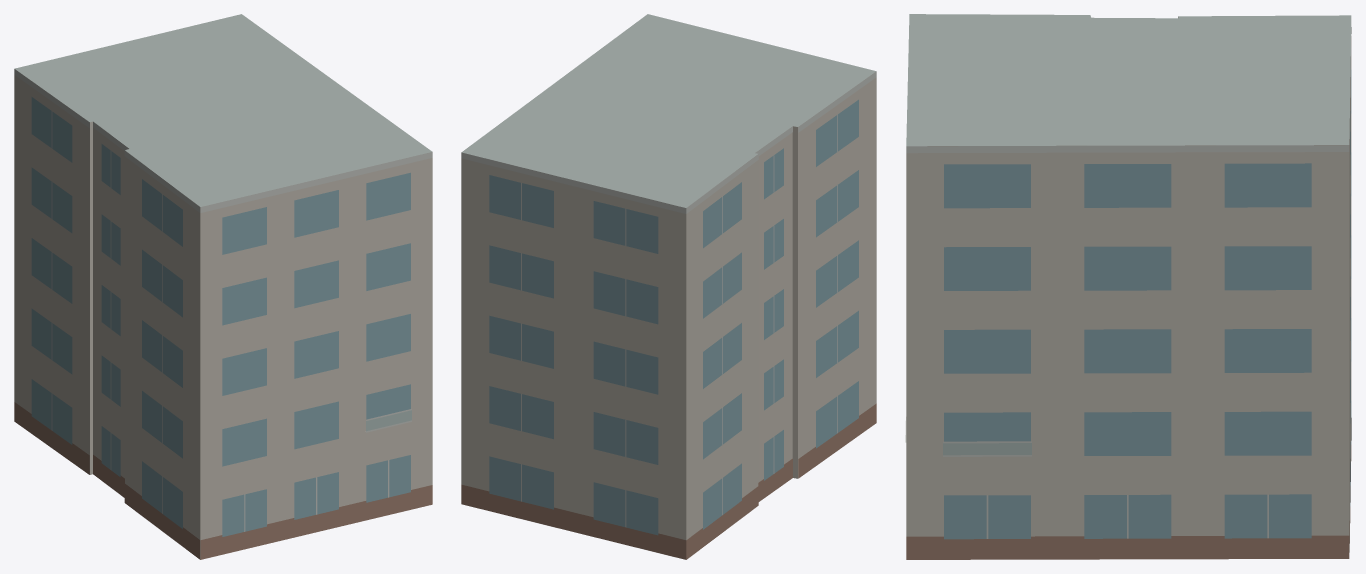
File: survey-upis-32774572.glb
The picture shows the model from 3 angles, left to right: view 1: azimuth 30°, elevation 25°; view 2: azimuth 150°, elevation 25°; view 3: azimuth 270°, elevation 25°; orthographic projection. The views are drawn at different scales.
Parts seen in each view (by area): view 1: survey-upis-32774572.tmp; view 2: survey-upis-32774572.tmp; view 3: survey-upis-32774572.tmp.
Boxes of the visible parts, bbox=[...] form: survey-upis-32774572.tmp: bbox=[14, 14, 432, 559]; survey-upis-32774572.tmp: bbox=[461, 14, 876, 559]; survey-upis-32774572.tmp: bbox=[905, 14, 1351, 559].
Bounding box in the file's own units: 9.9 × 14.4 × 14.08.
